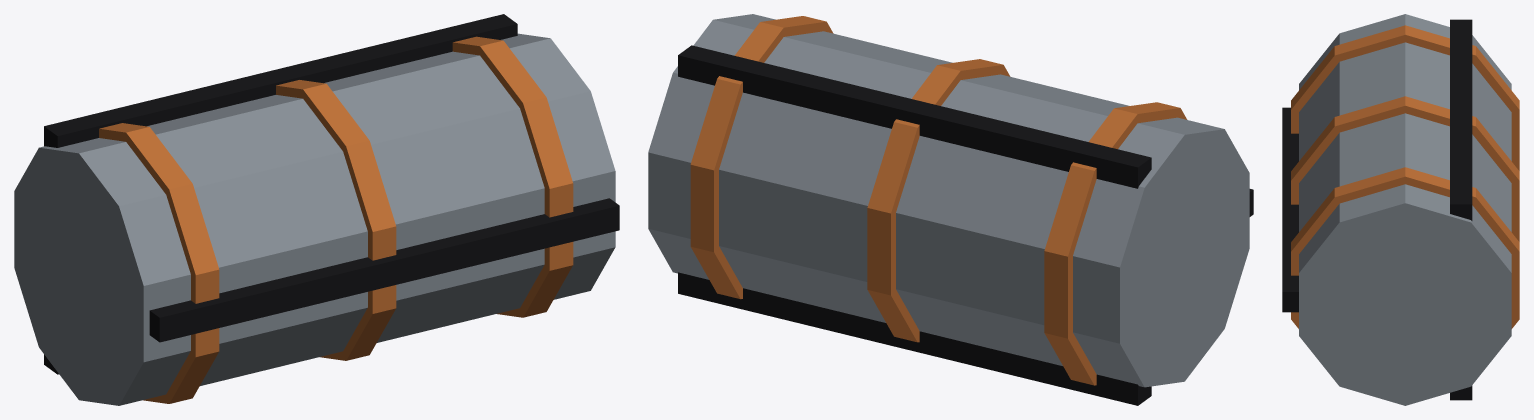
Rendered from power_generator_turbine.obj.
3 views of the same model, side by side, from view 1: azimuth 30°, elevation 25°; view 2: azimuth 150°, elevation 25°; view 3: azimuth 270°, elevation 25° (orthographic). The views are drawn at different scales.
Parts seen in each view (by area): view 1: Body; view 2: Body; view 3: Body.
Part boxes in pixels (bbox=[...]): Body: bbox=[14, 14, 619, 405]; Body: bbox=[648, 14, 1253, 405]; Body: bbox=[1282, 14, 1519, 405].
Bounding box in the file's own units: 0.8 × 0.43 × 0.4245.
